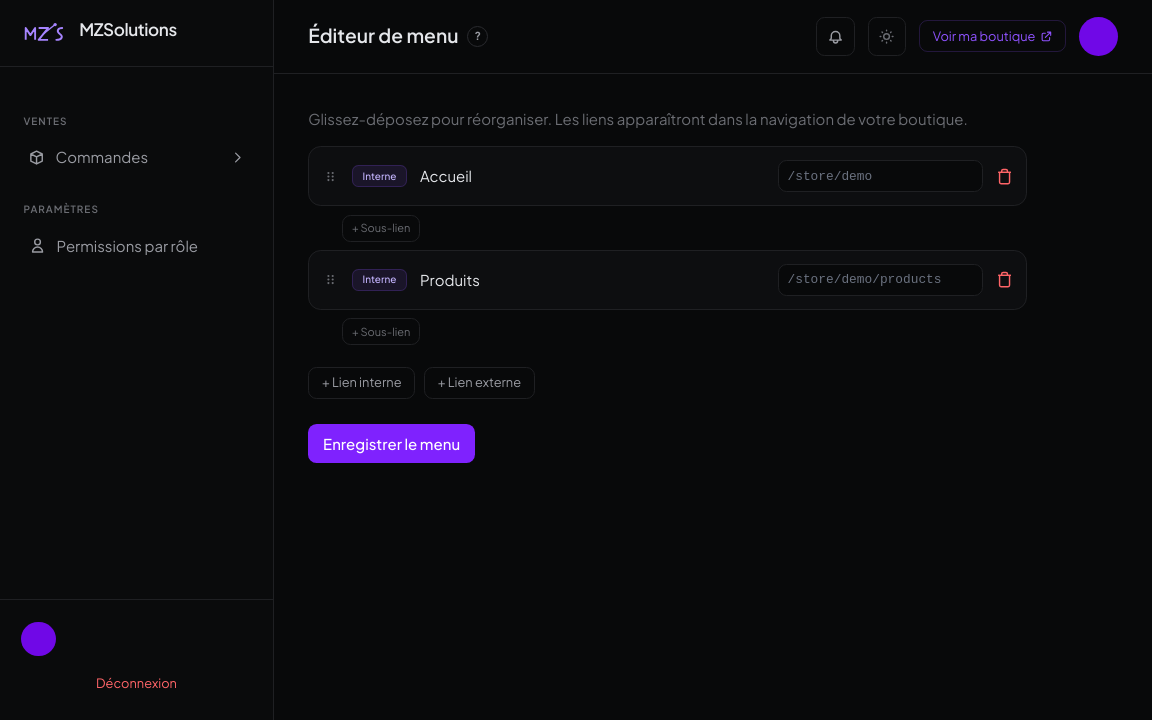
MenuPage › adds a new internal link item
expect the 1st field showing "Accueil" is shown: met, box [420,163,765,190]
Click the button "+ Lien interne" at (362, 383), box [308,367,415,399]
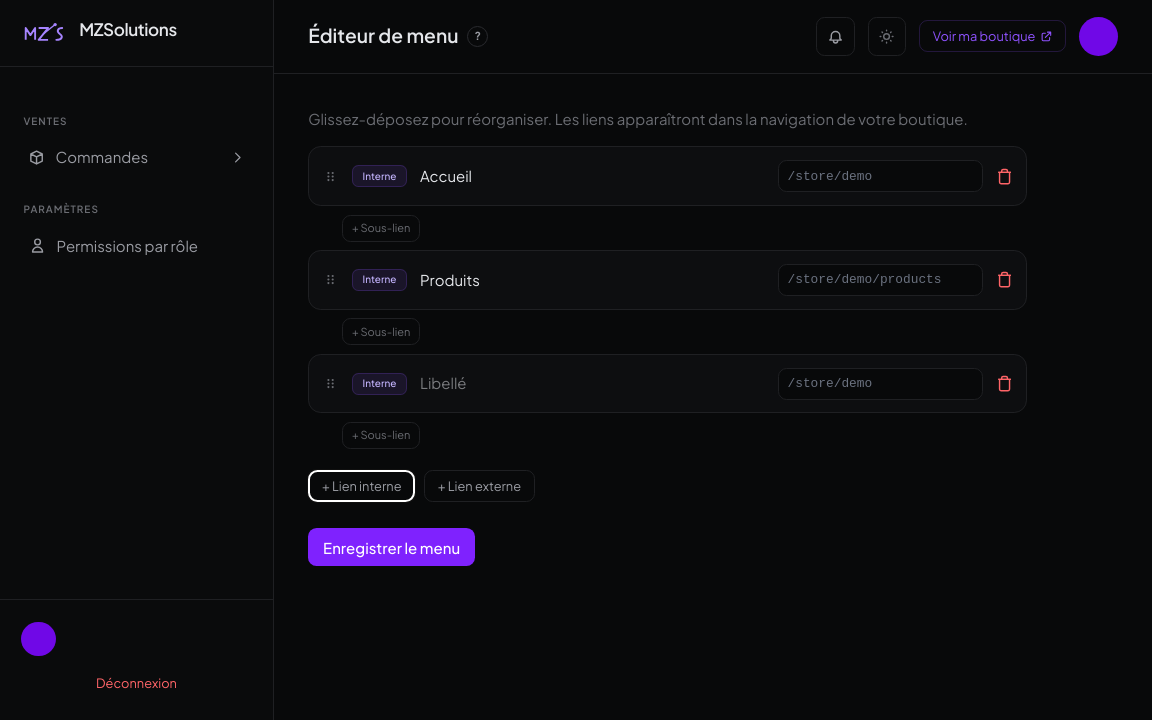
expect the number of fields with placeholder "Libellé" is 3: met, box [420,163,765,190]; [420,267,765,293]; [420,370,765,397]
